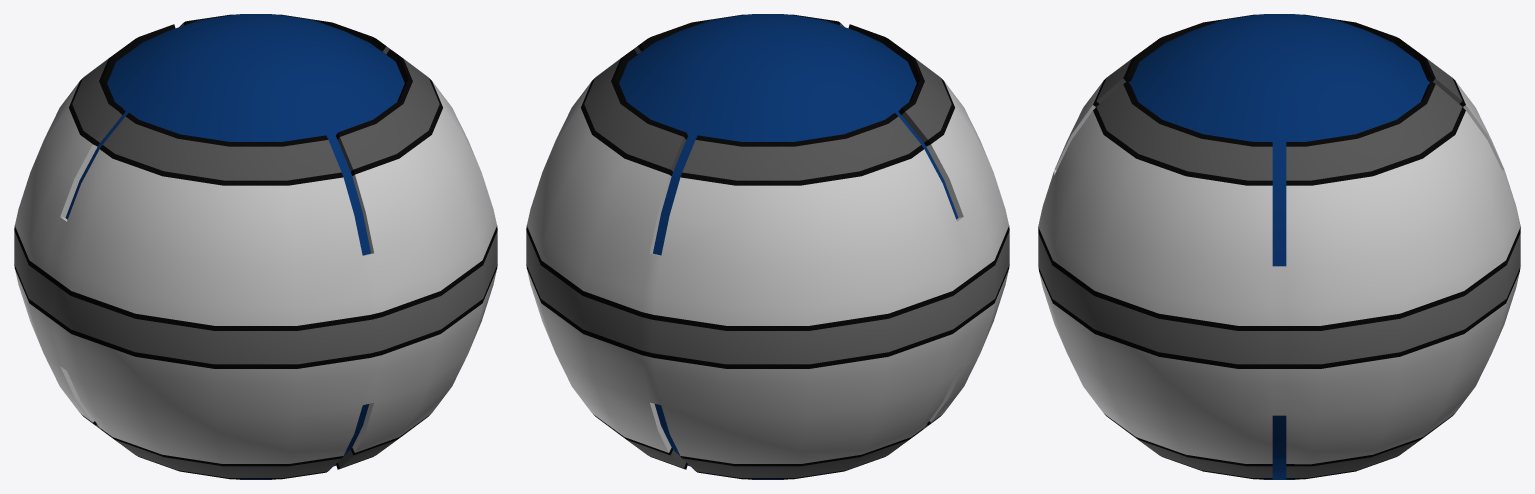
Rendered from MOb_Capsule_Blue.fbx.
The picture shows the model from 3 angles, left to right: view 1: azimuth 30°, elevation 25°; view 2: azimuth 150°, elevation 25°; view 3: azimuth 270°, elevation 25°; orthographic projection.
Parts seen in each view (by area): view 1: MOb_Capsule_Blue; view 2: MOb_Capsule_Blue; view 3: MOb_Capsule_Blue.
Boxes of the visible parts, x1=… form: MOb_Capsule_Blue: x1=14, y1=14, x2=497, y2=479; MOb_Capsule_Blue: x1=526, y1=14, x2=1009, y2=479; MOb_Capsule_Blue: x1=1038, y1=14, x2=1520, y2=479.
Size of the model in its own units: 0.3555 by 0.3494 by 0.3599.
